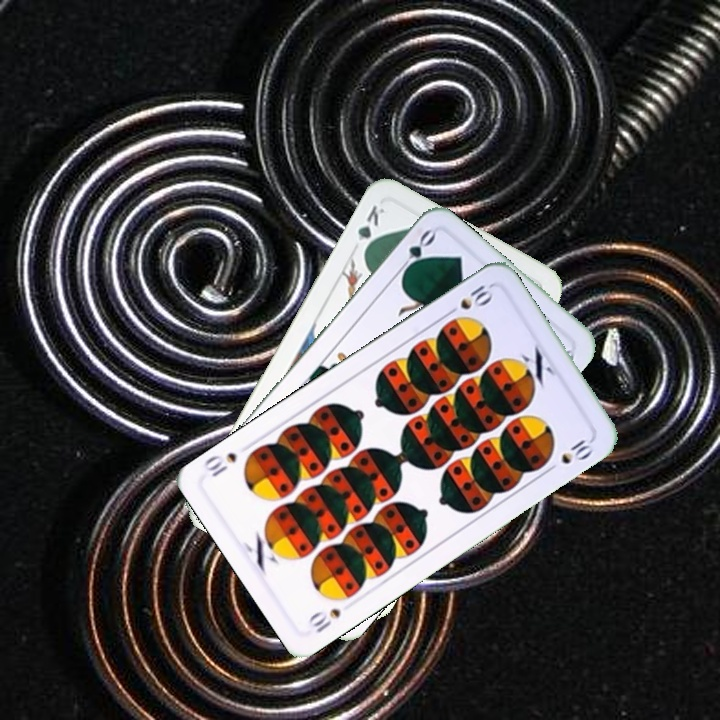GK: (353, 201, 387, 257)
GO: (393, 225, 439, 280)
S10: (441, 280, 496, 319), (304, 604, 344, 636)
